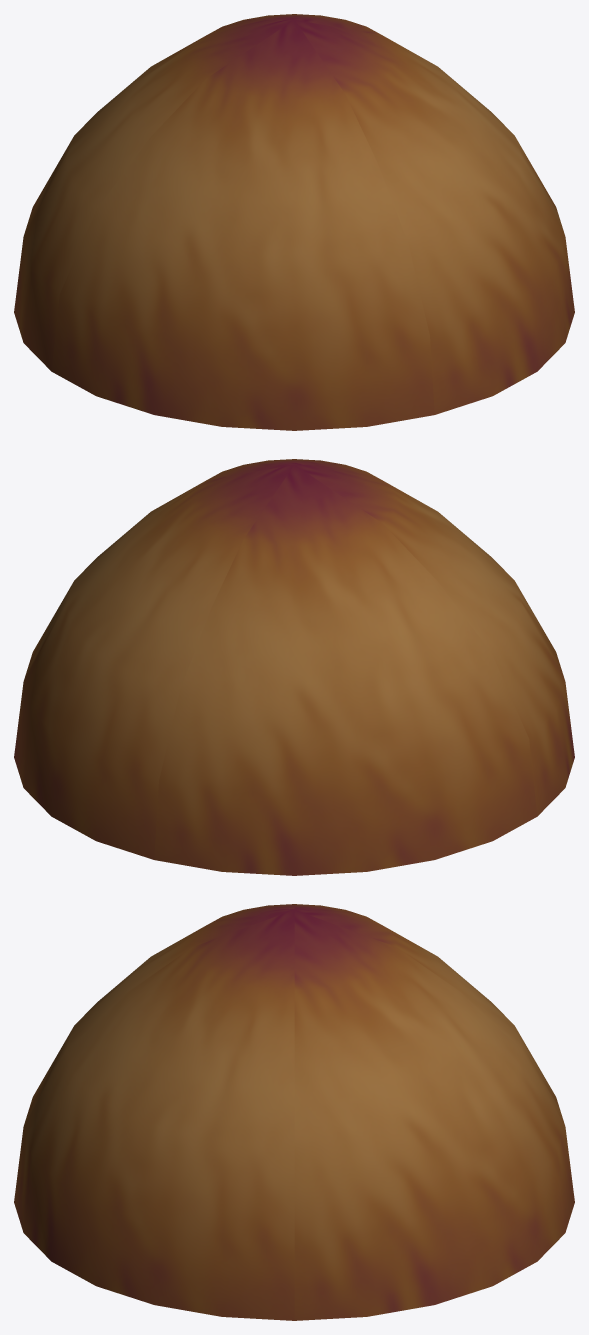
File: Coconut.glb
The picture shows the model from 3 angles, top to bottom: view 1: azimuth 30°, elevation 25°; view 2: azimuth 150°, elevation 25°; view 3: azimuth 270°, elevation 25°; orthographic projection.
Parts seen in each view (by area): view 1: geometry_0; view 2: geometry_0; view 3: geometry_0.
Boxes of the visible parts, x1=… form: geometry_0: x1=14, y1=14, x2=574, y2=430; geometry_0: x1=14, y1=459, x2=574, y2=875; geometry_0: x1=14, y1=904, x2=574, y2=1320.
Bounding box in the file's own units: 0.259 × 0.1491 × 0.259.
1 material, 1 textured.
